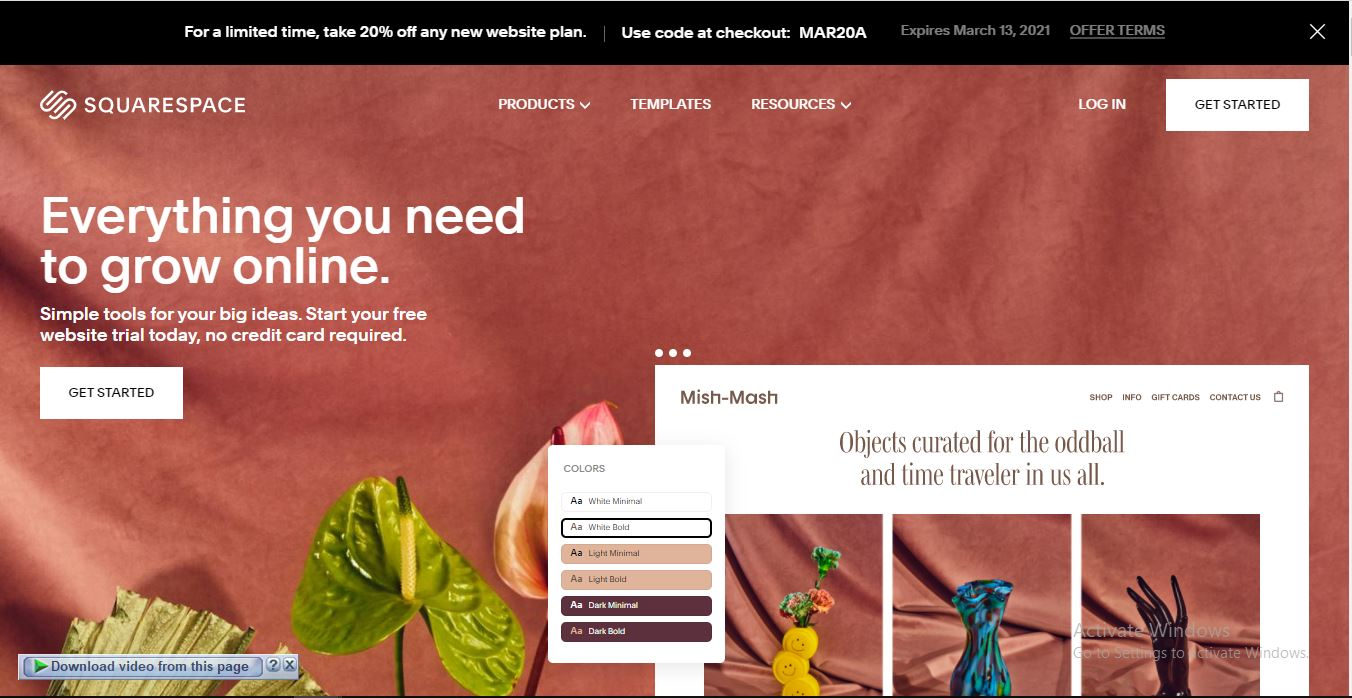Button: (1167, 80, 1306, 130), (42, 369, 179, 417)
Menu Bar: (471, 70, 865, 134)
